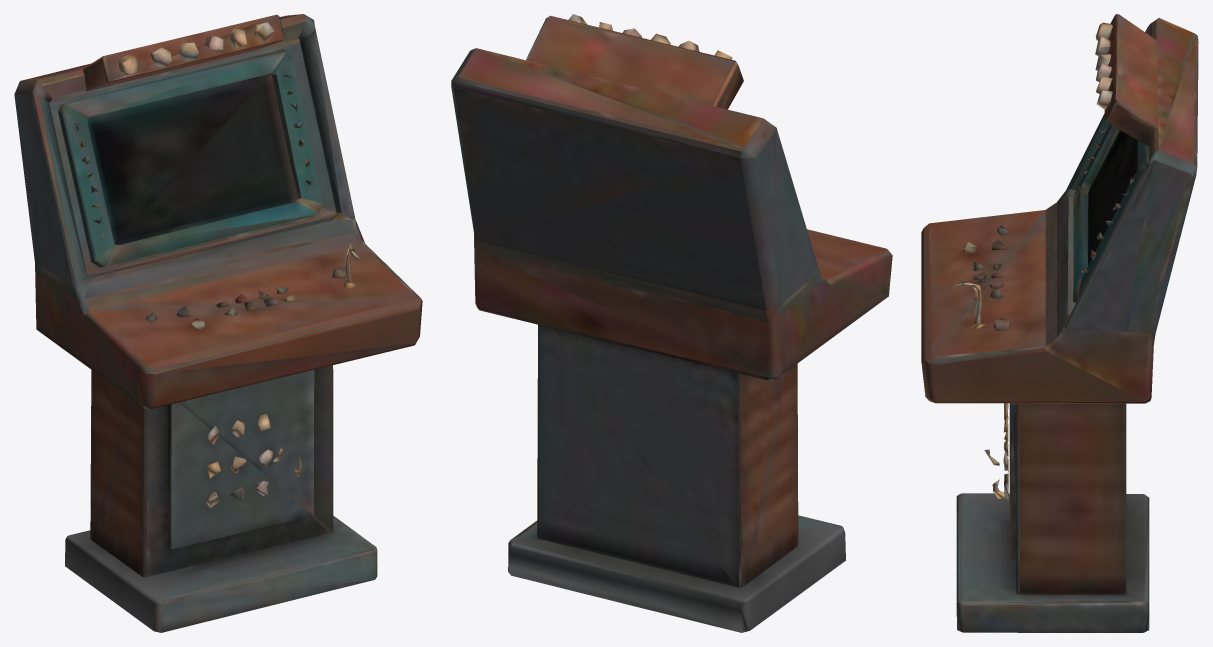
The model's file is sci-fi-console.lod2.glb.
3 views of the same model, side by side, from view 1: azimuth 30°, elevation 25°; view 2: azimuth 150°, elevation 25°; view 3: azimuth 270°, elevation 25° (orthographic). The views are drawn at different scales.
Bounding box in the file's own units: 0.6329 × 1.1 × 0.5274.
1 material, 1 textured.
